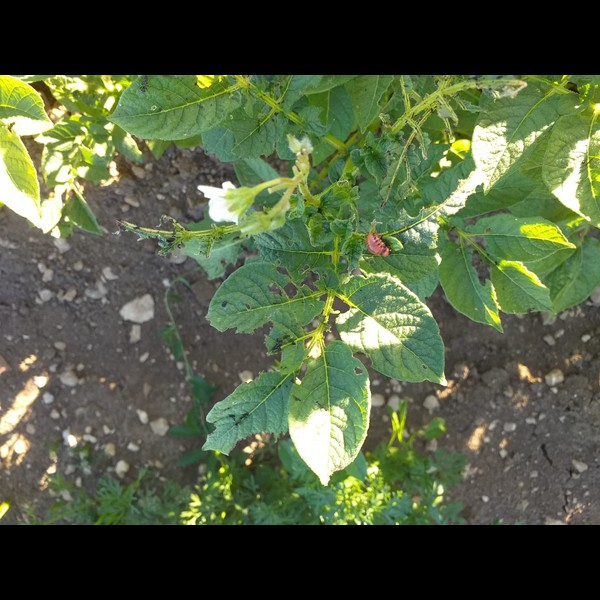hrosc: (363, 228, 393, 261)
